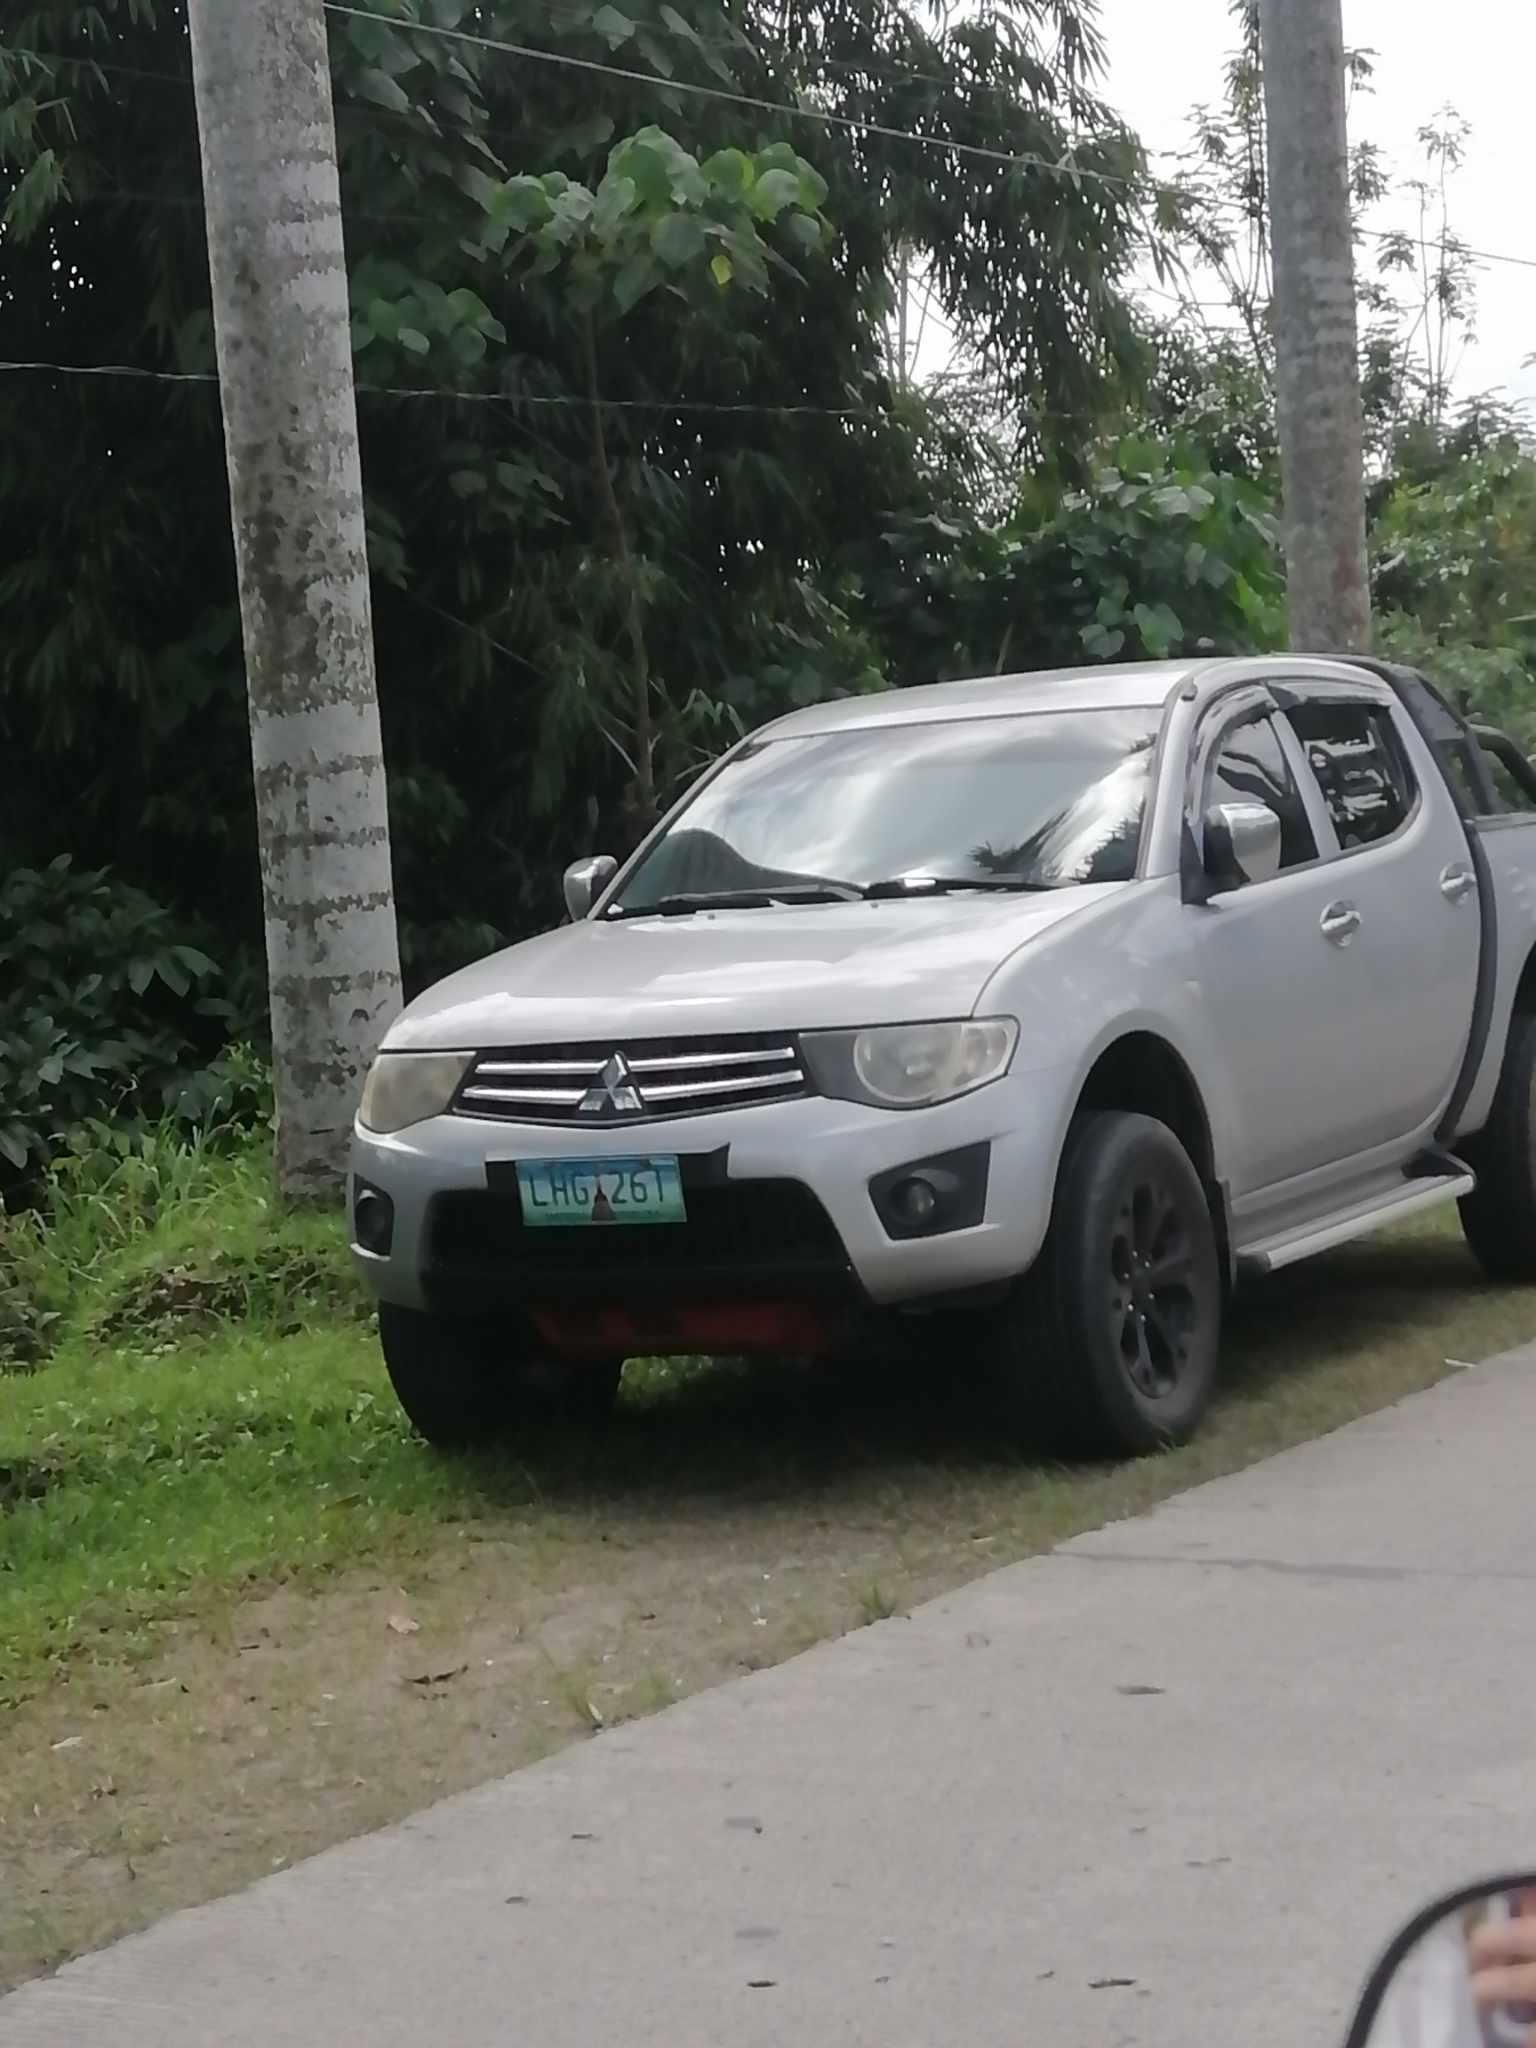license-plate: (514, 1153, 689, 1229)
